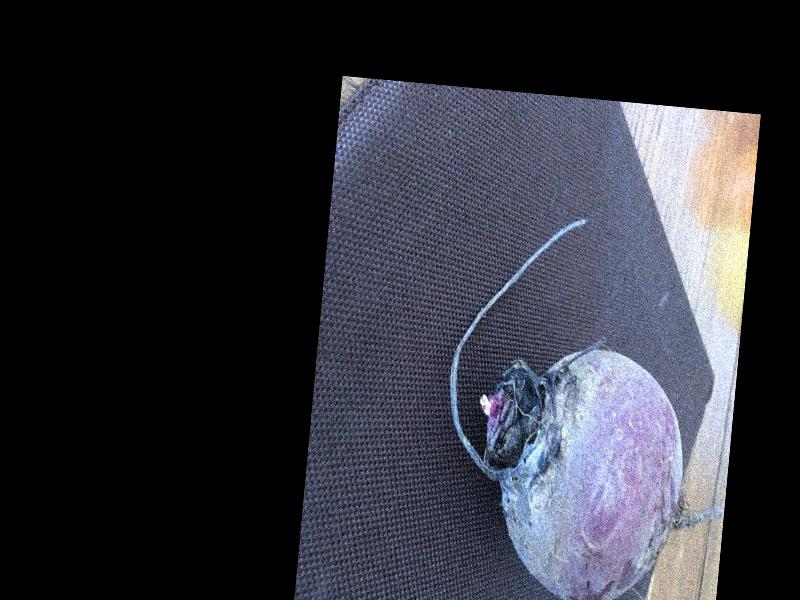Beet: (430, 207, 748, 600)
